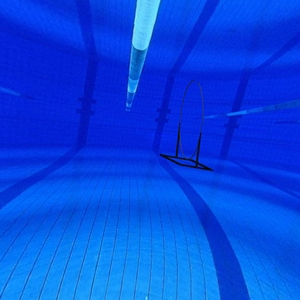circle: (157, 79, 217, 174)
